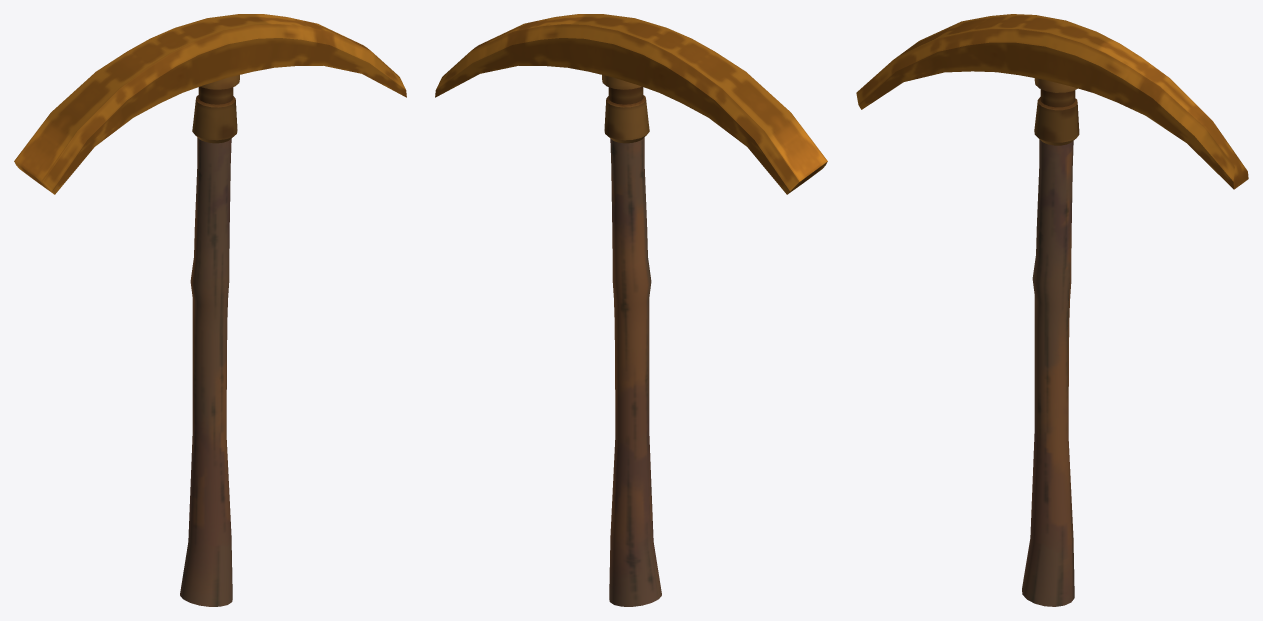
File: pickaxe_inhand.glb
3 views of the same model, side by side, from view 1: azimuth 30°, elevation 25°; view 2: azimuth 150°, elevation 25°; view 3: azimuth 330°, elevation 25° (orthographic).
Parts seen in each view (by area): view 1: LIB_pickaxe; view 2: LIB_pickaxe; view 3: LIB_pickaxe.
Boxes of the visible parts, <box> form: LIB_pickaxe: <box>14,14,406,606</box>; LIB_pickaxe: <box>435,14,827,606</box>; LIB_pickaxe: <box>856,14,1248,606</box>.
Bounding box in the file's own units: 0.6108 × 0.9 × 0.1019.
Materials: 1 (1 with a texture image).
